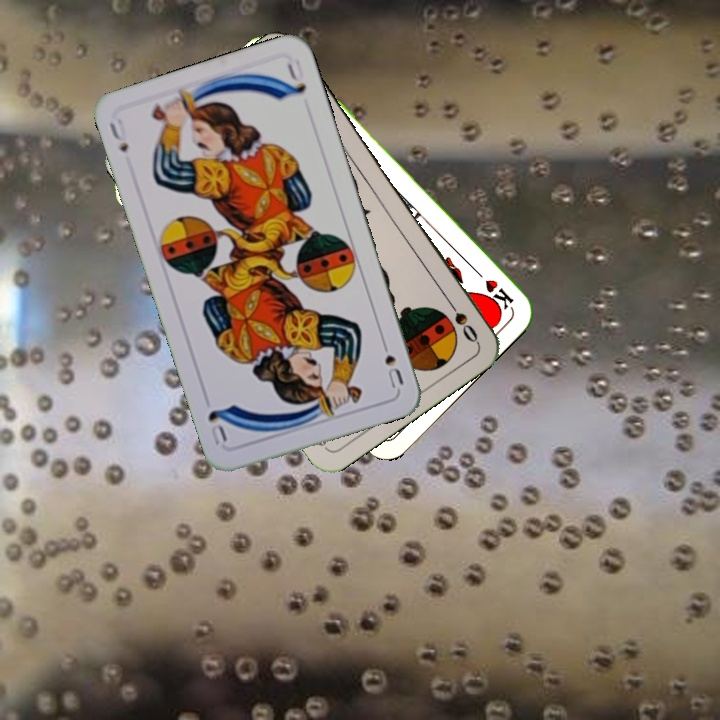HK: (468, 263, 516, 312)
SO: (441, 293, 481, 346)
SU: (376, 334, 406, 391), (105, 114, 131, 156)
